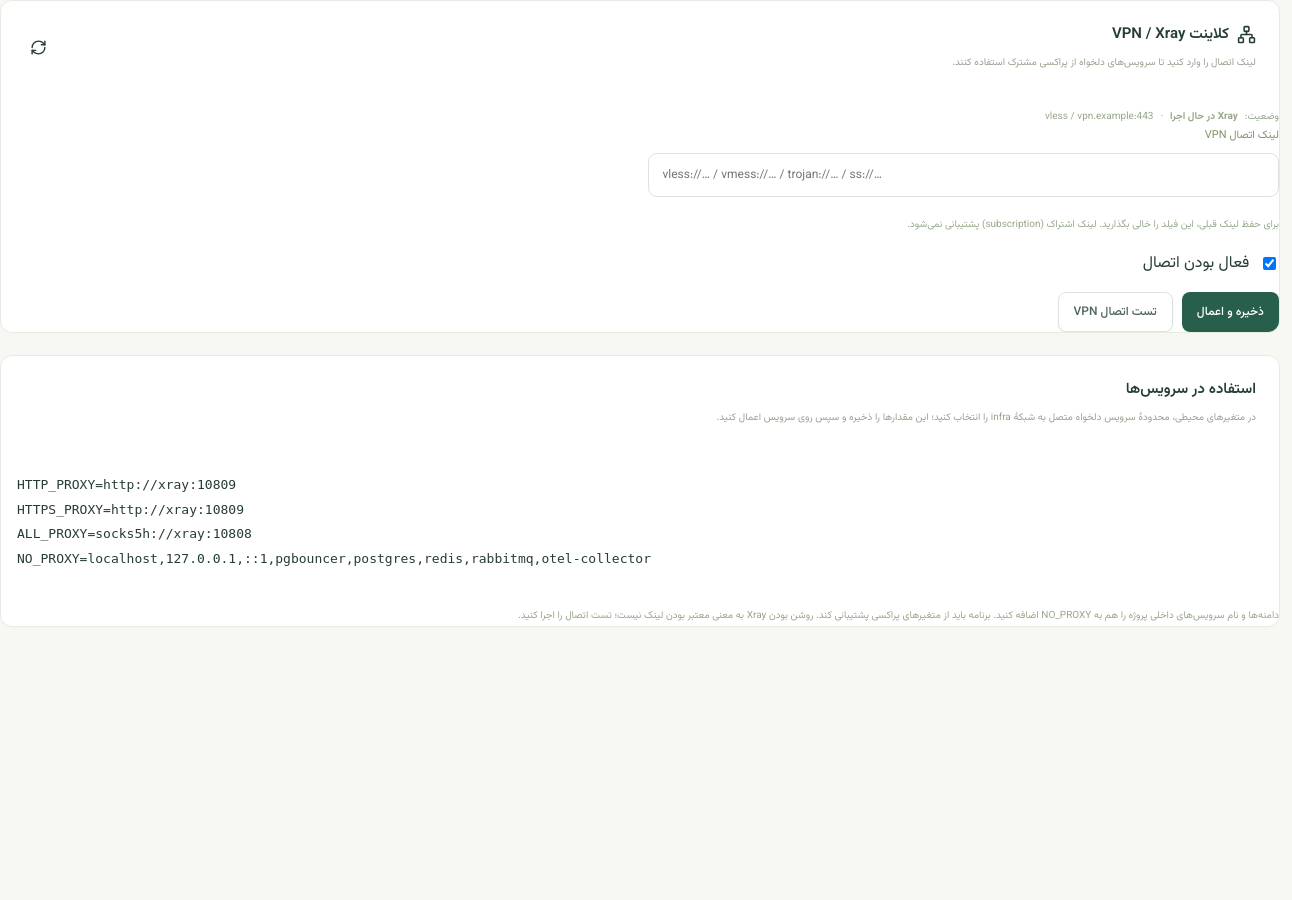
Test: imports a secret link, clears it on success and tests the proxy with CSRF
This screenshot has width=1292, height=900.
Expected: the button "ذخیره و اعمال" is enabled, [1182,292,1279,332]
Type "vless://private-link" into the password field labelled "لینک اتصال VPN" at (963,175), box [648,153,1279,197]
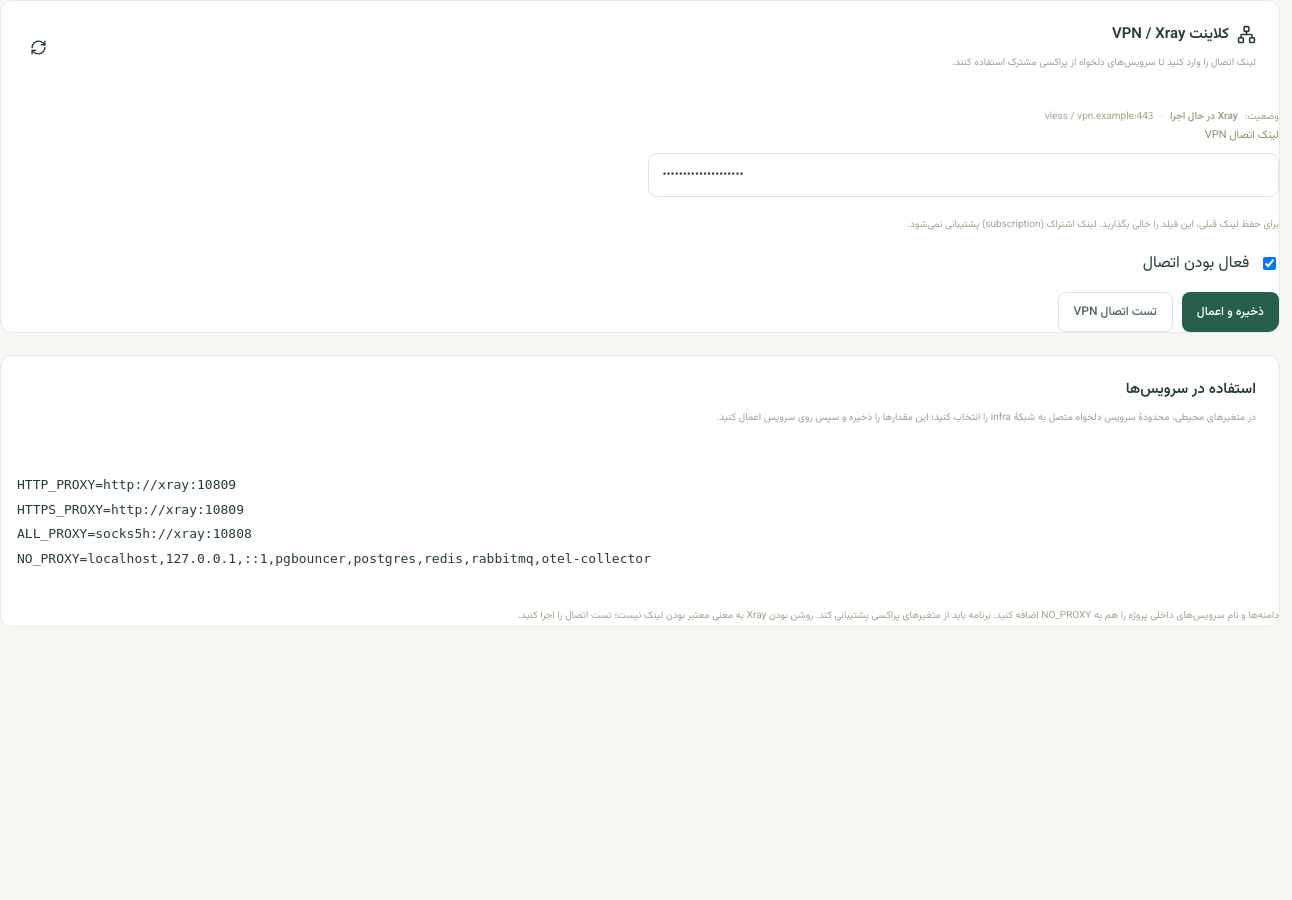
Click the button "ذخیره و اعمال" at (1230,312), box [1182,292,1279,332]
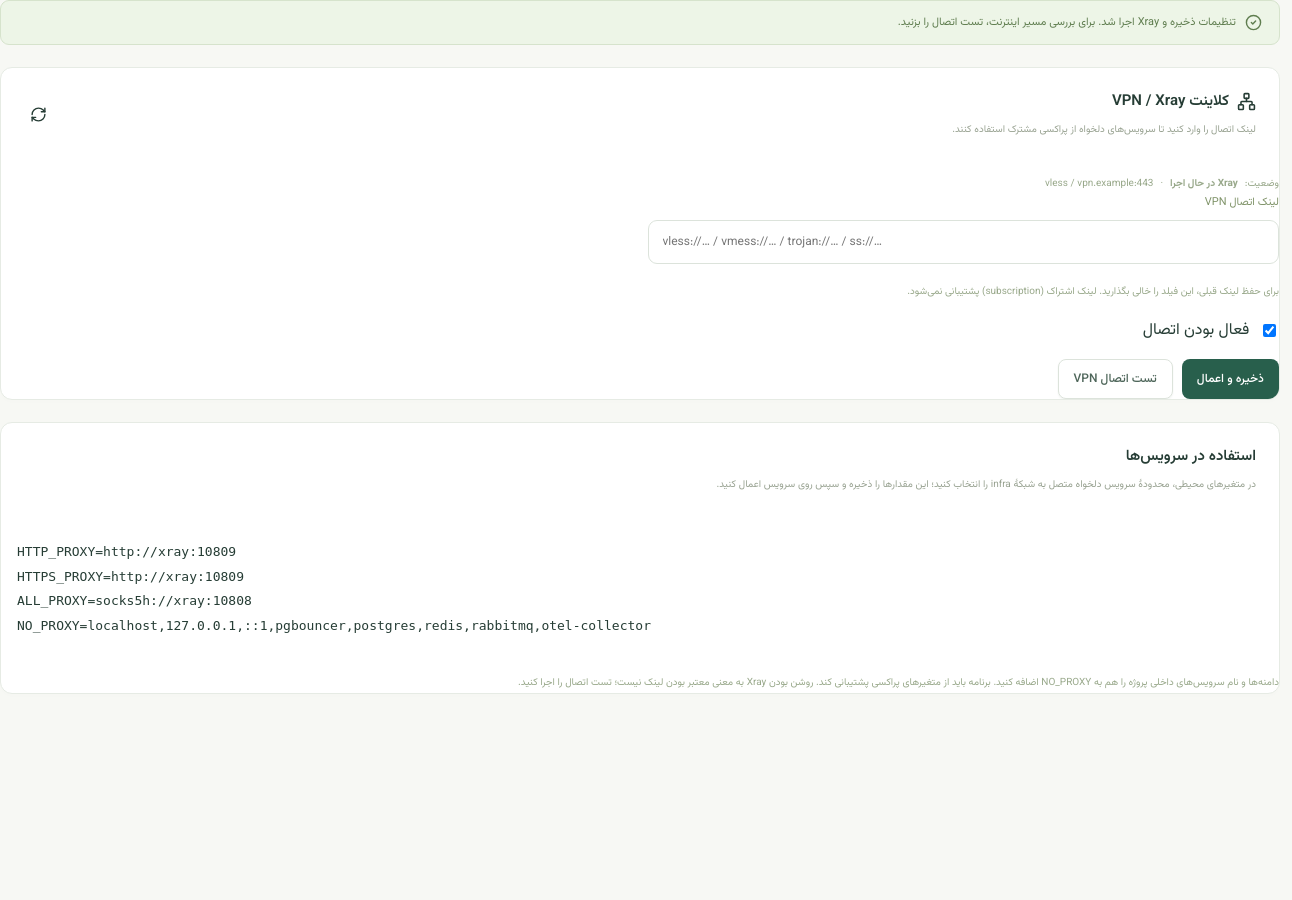
Now the password field labelled "لینک اتصال VPN" is empty, box [648,220,1279,264]
Click the button "تست اتصال VPN" at (1115,379), box [1058,359,1173,399]
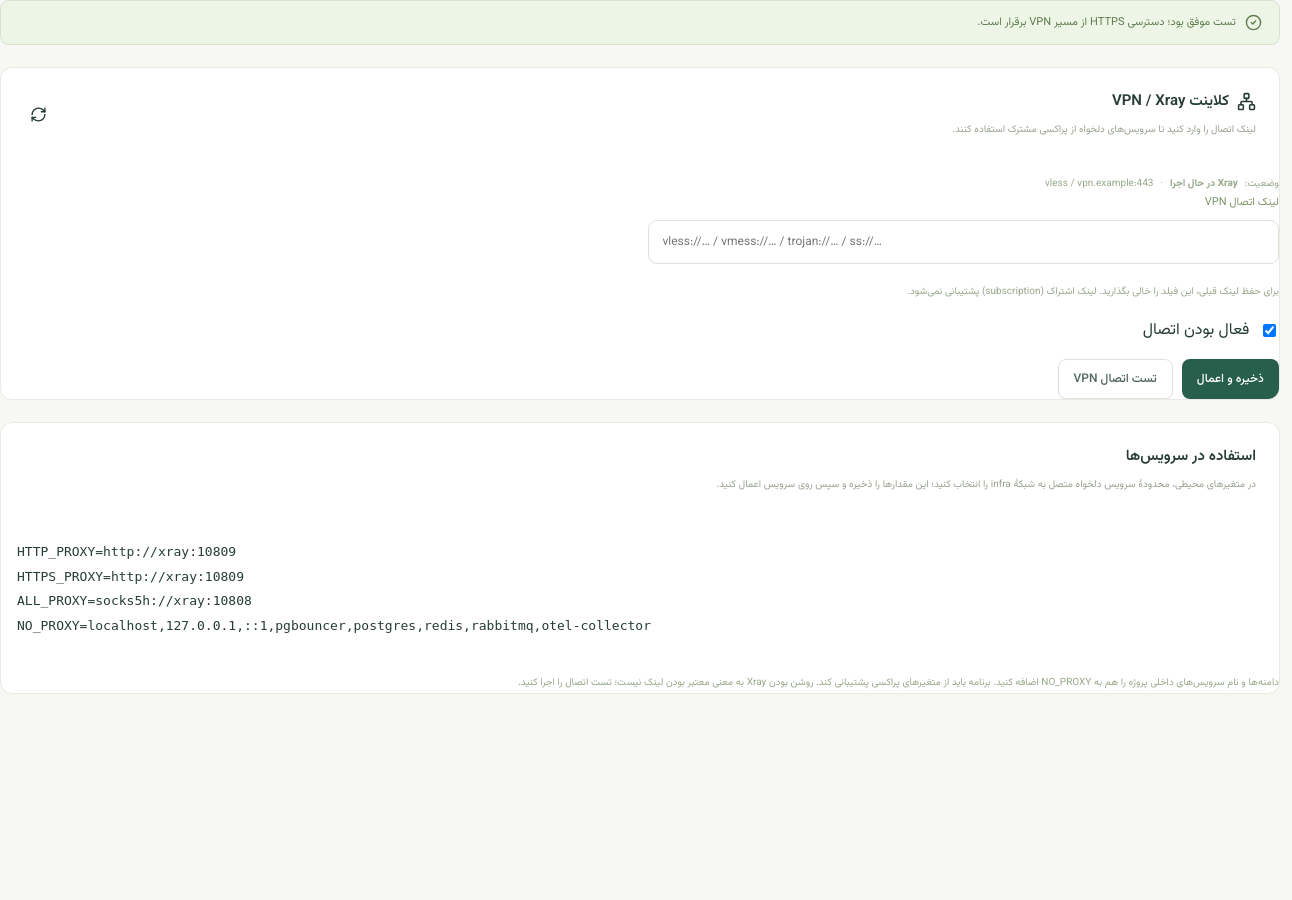
Now the text "تست موفق بود؛ دسترسی HTTPS از مسیر VPN برقرار است." is shown, box [0,0,1280,45]
